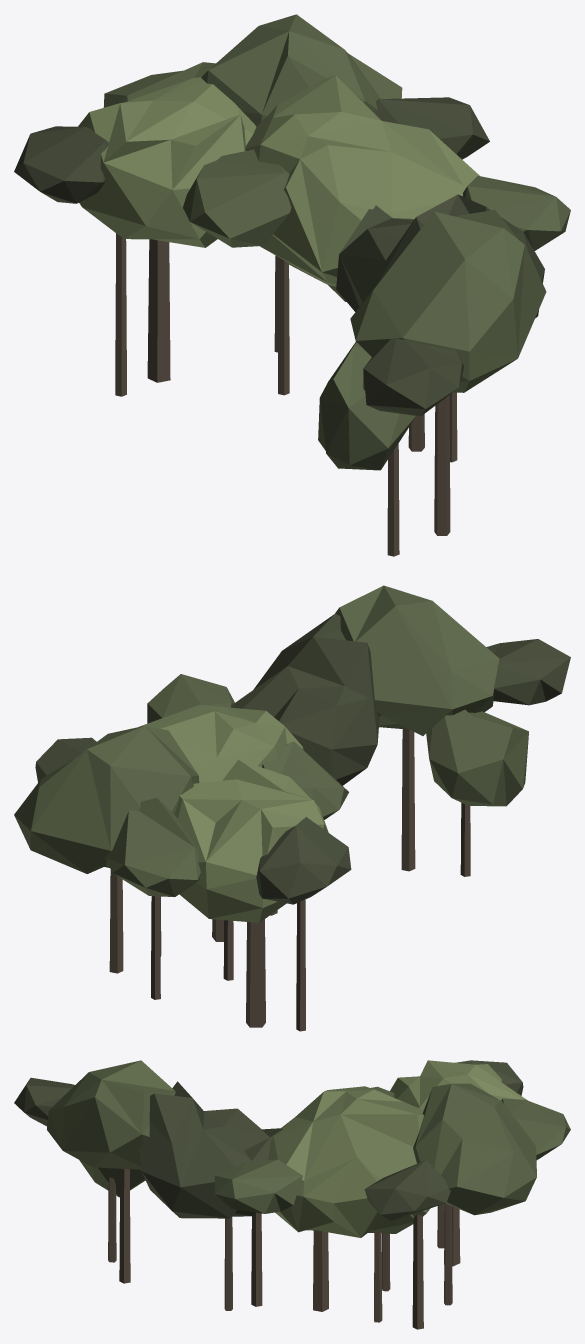
The model's file is tree_064.fbx.
3 views of the same model, one above another, from view 1: azimuth 30°, elevation 25°; view 2: azimuth 150°, elevation 25°; view 3: azimuth 270°, elevation 25° (orthographic). The views are drawn at different scales.
Visible parts, largest first — view 1: tree_064; view 2: tree_064; view 3: tree_064.
Boxes of the visible parts, x1,y1,x2,y2 form: tree_064: [14, 14, 570, 556]; tree_064: [14, 585, 570, 1031]; tree_064: [14, 1060, 570, 1329].
Size of the model in its own units: 0.4893 by 0.3706 by 0.8358.
1 material, 1 textured.
